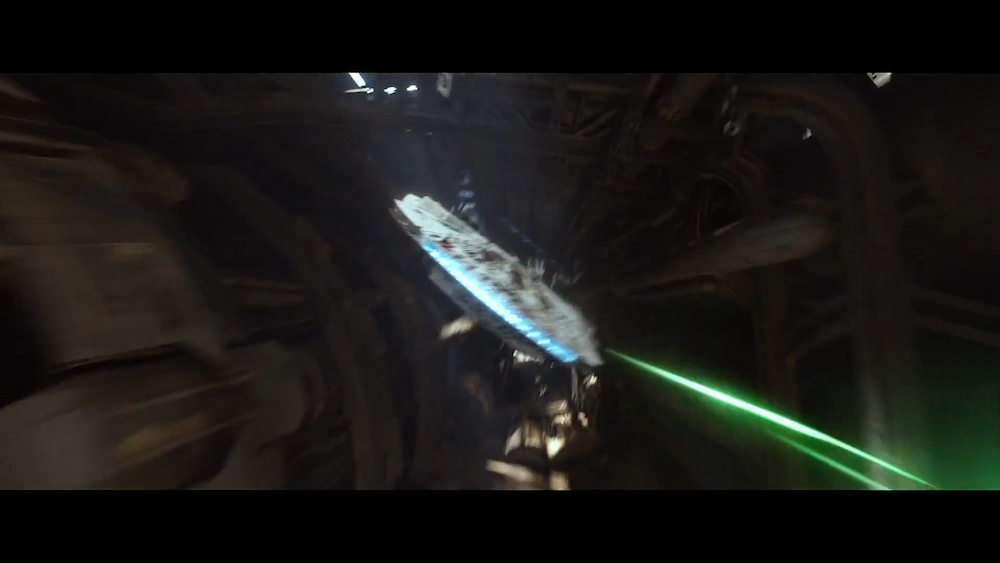Millennium Falcon: (381, 178, 608, 374)
